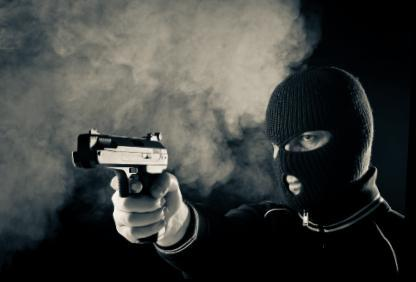pistol: (71, 123, 172, 198)
